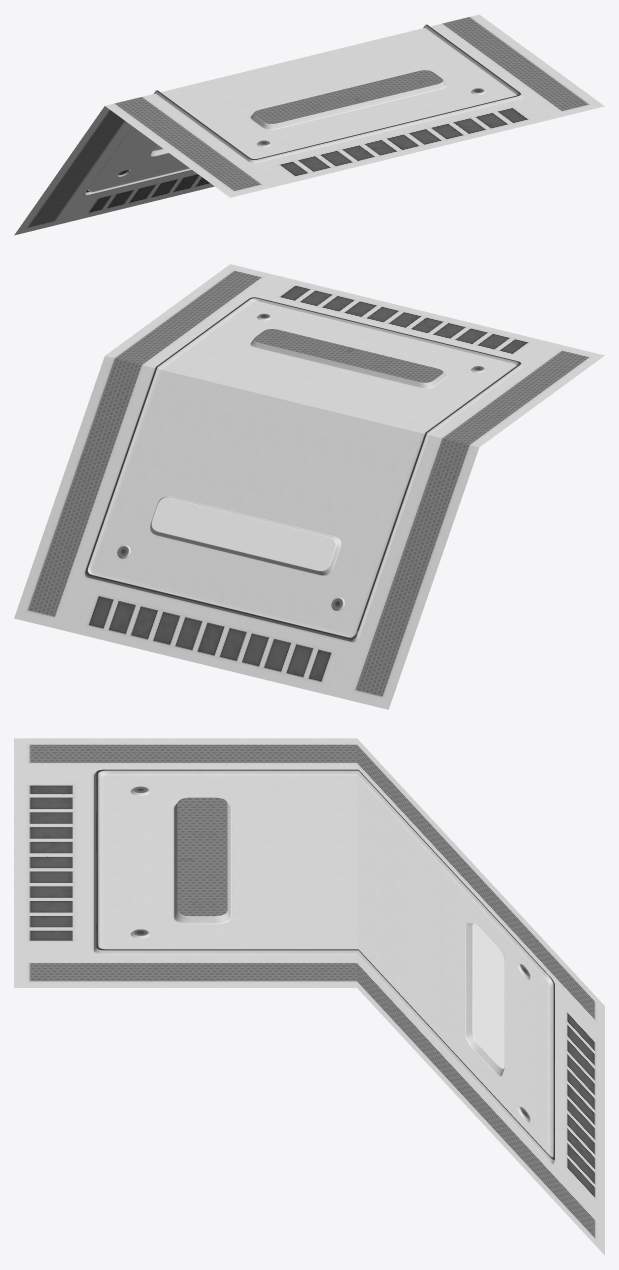
The model's file is SM_MCeiling03-2-350x350-3.FBX.
The picture shows the model from 3 angles, top to bottom: view 1: azimuth 30°, elevation 25°; view 2: azimuth 150°, elevation 25°; view 3: azimuth 270°, elevation 25°; orthographic projection. The views are drawn at different scales.
Visible parts, largest first — view 1: SM_MCeiling03-2-350x350-3; view 2: SM_MCeiling03-2-350x350-3; view 3: SM_MCeiling03-2-350x350-3.
Part boxes in pixels (bbox=[...]): SM_MCeiling03-2-350x350-3: bbox=[14, 14, 604, 235]; SM_MCeiling03-2-350x350-3: bbox=[14, 264, 604, 709]; SM_MCeiling03-2-350x350-3: bbox=[14, 738, 604, 1255].
Size of what is drawn, in the model's own units: 350 by 350 by 179.
